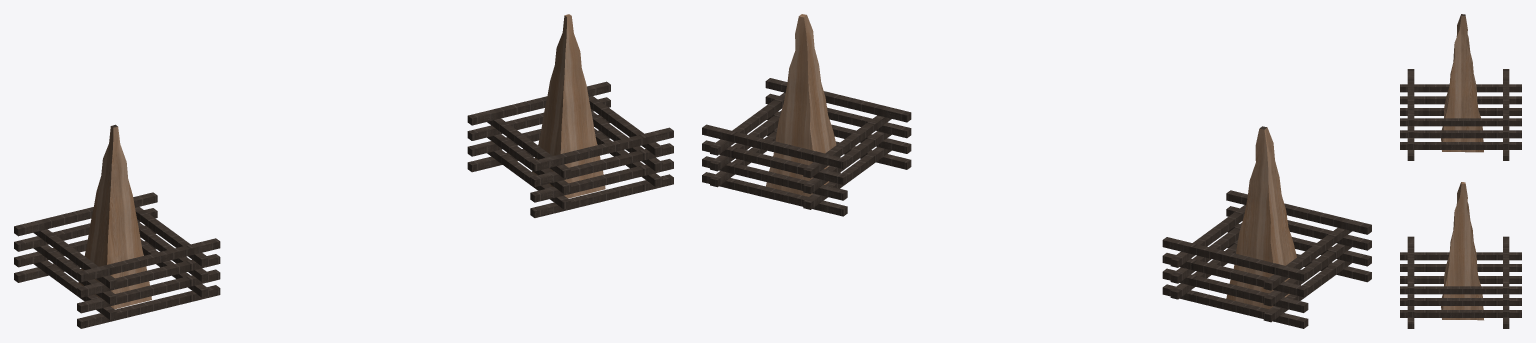
File: FireWoodV1.fbx
The picture shows the model from 3 angles, left to right: view 1: azimuth 30°, elevation 25°; view 2: azimuth 150°, elevation 25°; view 3: azimuth 270°, elevation 25°; orthographic projection. The views are drawn at different scales.
Parts seen in each view (by area): view 1: FE_WoodBox04; view 2: FE_WoodBox04; view 3: FE_WoodBox04.
Part boxes in pixels (x1,y1,x2,y2): FE_WoodBox04: (14,14,673,328); FE_WoodBox04: (702,14,1371,328); FE_WoodBox04: (1400,14,1521,328).
Bounding box in the file's own units: 21.56 × 5.89 × 5.06.
1 material, 1 textured.
